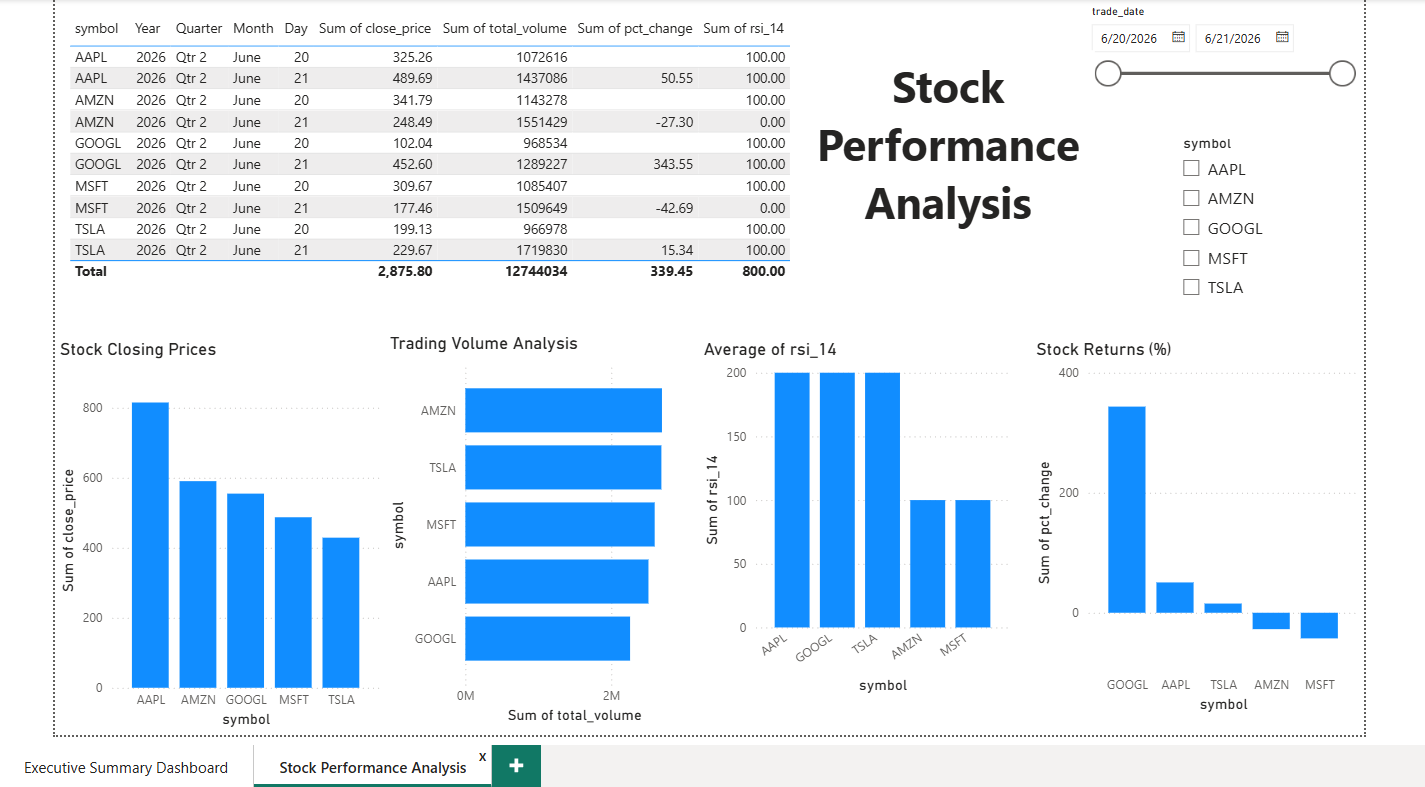

The page's visual inventory and layout, read from the dashboard file:
{"tool":"powerbi","page":{"name":"Stock Performance Analysis","canvas":[1280,720],"ordinal":1},"visuals":[{"type":"slicer","fields":{"Values":["public gold_daily_metrics.symbol"]},"box":[1090.8,127.2,139.4,217.7],"z":0},{"type":"slicer","fields":{"Values":["public gold_daily_metrics.trade_date"]},"box":[1001.5,0,278.8,135.7],"z":1},{"type":"tableEx","fields":{"Values":["public gold_daily_metrics.symbol","public gold_daily_metrics.trade_date.Variation.Date Hierarchy.Year","public gold_daily_metrics.trade_date.Variation.Date Hierarchy.Quarter","public gold_daily_metrics.trade_date.Variation.Date Hierarchy.Month","public gold_daily_metrics.trade_date.Variation.Date Hierarchy.Day","Sum(public gold_daily_metrics.close_price)","Sum(public gold_daily_metrics.total_volume)","Sum(public gold_daily_metrics.pct_change)","Sum(public gold_daily_metrics.rsi_14)"]},"box":[8.6,12.2,731.3,287.4],"z":2},{"type":"clusteredColumnChart","title":"Stock Closing Prices","fields":{"Category":["public gold_daily_metrics.symbol"],"Y":["Sum(public gold_daily_metrics.close_price)"]},"box":[0,332.6,322.8,385.2],"z":3},{"type":"barChart","title":"Trading Volume Analysis","fields":{"Category":["public gold_daily_metrics.symbol"],"Y":["Sum(public gold_daily_metrics.total_volume)"]},"box":[322.8,326.5,306.9,387.6],"z":4},{"type":"columnChart","title":"Average of rsi_14","fields":{"Category":["public gold_daily_metrics.symbol"],"Y":["Sum(public gold_daily_metrics.rsi_14)"]},"box":[629.8,332.6,309.4,352.2],"z":5},{"type":"columnChart","title":"Stock Returns (%)","fields":{"Category":["public gold_daily_metrics.symbol"],"Y":["Sum(public gold_daily_metrics.pct_change)"]},"box":[955,332.6,325.3,370.5],"z":6},{"type":"textbox","box":[730,50.1,287.4,212.8],"z":7}]}

Visuals, with their boxes on the page's 1280x720 design canvas (x1, y1, x2, y2). These are canvas units, not pixel positions in the 1425x787 screenshot, which may show the page scaled, cropped or inside an application window:
slicer - public gold_daily_metrics.symbol: 1091:127:1230:345
slicer - public gold_daily_metrics.trade_date: 1002:0:1280:136
tableEx - public gold_daily_metrics.symbol x public gold_daily_metrics.trade_date.Variation.Date Hierarchy.Year: 9:12:740:300
"Stock Closing Prices" clusteredColumnChart: 0:333:323:718
"Trading Volume Analysis" barChart: 323:326:630:714
"Average of rsi_14" columnChart: 630:333:939:685
"Stock Returns (%)" columnChart: 955:333:1280:703
textbox: 730:50:1017:263
